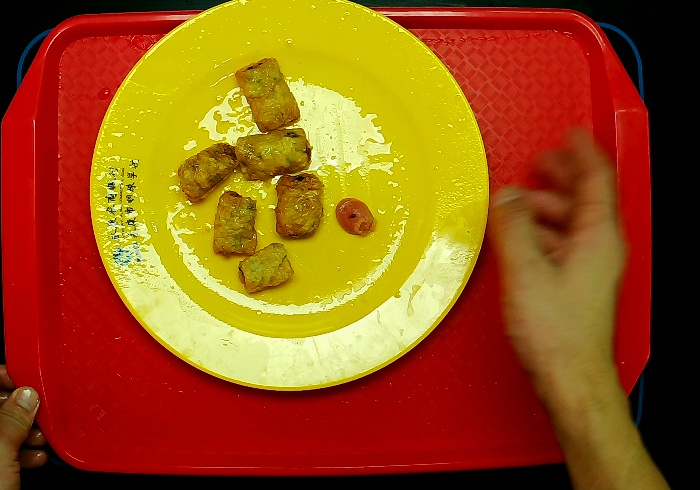YKMZ-Huang_Se_Mian_Pan: (81, 1, 496, 401)
